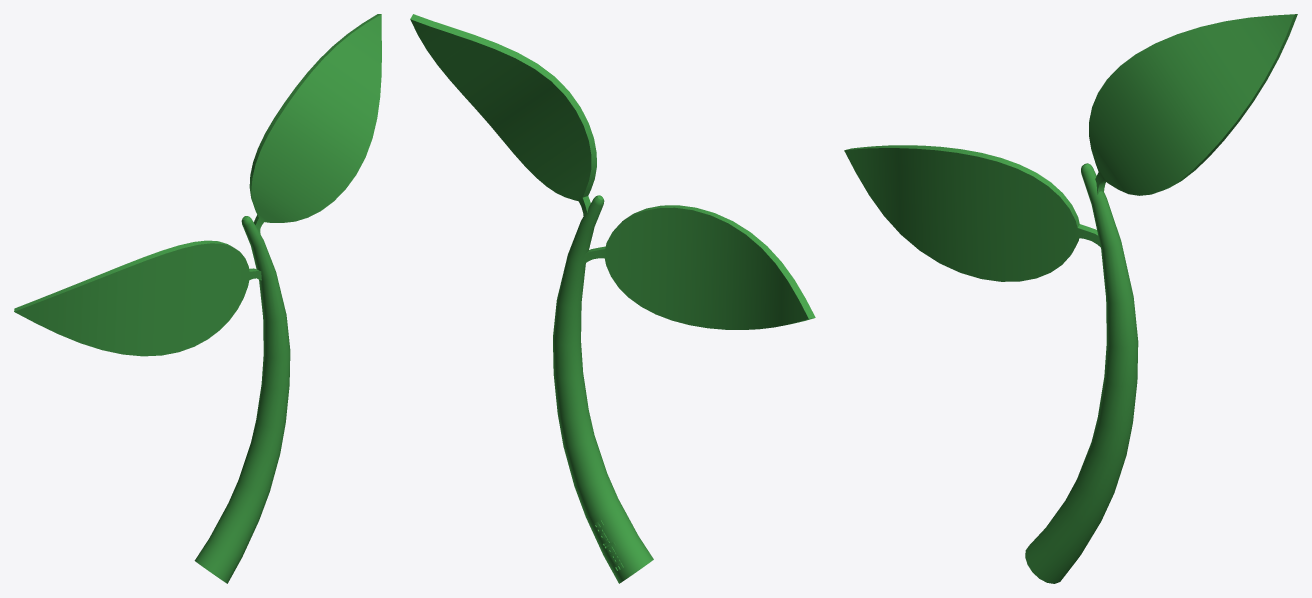
File: seedling.fbx
3 renders of one model, left to right at view 1: azimuth 30°, elevation 25°; view 2: azimuth 150°, elevation 25°; view 3: azimuth 330°, elevation 25°, orthographic. The views are drawn at different scales.
Visible parts, largest first — view 1: Circle.2053; view 2: Circle.2053; view 3: Circle.2053.
Part boxes in pixels (x1,y1,x2,y2): Circle.2053: [14, 14, 381, 583]; Circle.2053: [410, 14, 815, 583]; Circle.2053: [844, 14, 1297, 583].
Bounding box in the file's own units: 177 × 229 × 31.27.
Materials: 1 (1 with a texture image).
